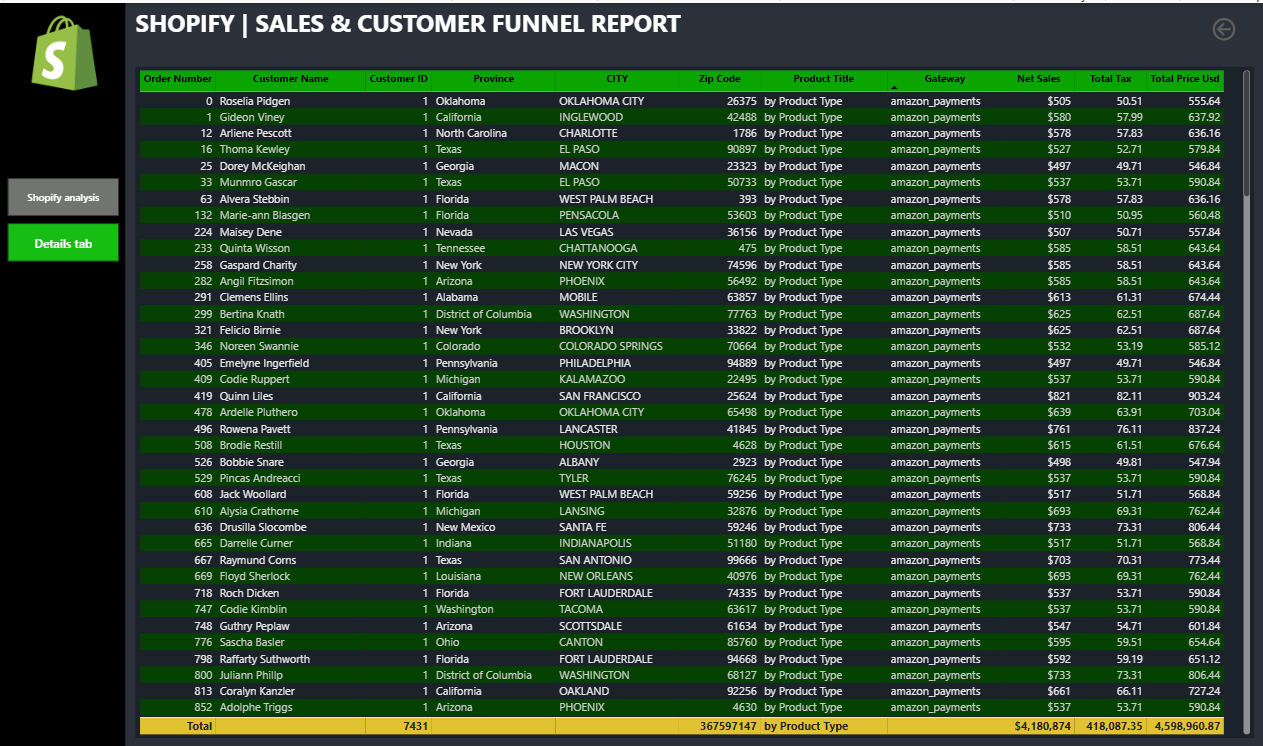

Layout of this report page (visuals, bound fields, positions):
{"tool":"powerbi","page":{"name":"Details tab","canvas":[1700,1000],"ordinal":1},"visuals":[{"type":"shape","box":[0,0,169.2,1000.3],"z":0},{"type":"textbox","box":[169.2,0,777.5,55.3],"z":1000},{"type":"shape","box":[182.6,85.5,1499.7,899.8],"z":2000},{"type":"tableEx","fields":{"Values":["shopify_sales.Order Number","shopify_sales.Customer Name","CountNonNull(shopify_sales.Customer Id)","shopify_sales.Billing Address Province","shopify_sales.CITY","Sum(shopify_sales.Billing Address Zip)","shopify_sales.Product Title","shopify_sales.Gateway","shopify_sales.Net Sales","Sum(shopify_sales.Total Tax)","Sum(shopify_sales.Total Price Usd)"]},"box":[182.6,85.5,1499.7,899.8],"z":3000},{"type":"actionButton","box":[1622,15.1,41.9,40.2],"z":4000},{"type":"pageNavigator","box":[11.7,234.6,149.1,113.9],"z":5000},{"type":"image","box":[25.1,16.8,125.7,100.5],"z":5001}]}

Visuals, with their boxes on the page's 1700x1000 design canvas (x1, y1, x2, y2). These are canvas units, not pixel positions in the 1263x746 screenshot, which may show the page scaled, cropped or inside an application window:
shape: bbox=[0, 0, 169, 1000]
textbox: bbox=[169, 0, 947, 55]
shape: bbox=[183, 86, 1682, 985]
tableEx - shopify_sales.Order Number x shopify_sales.Customer Name: bbox=[183, 86, 1682, 985]
actionButton: bbox=[1622, 15, 1664, 55]
pageNavigator: bbox=[12, 235, 161, 348]
image: bbox=[25, 17, 151, 117]
